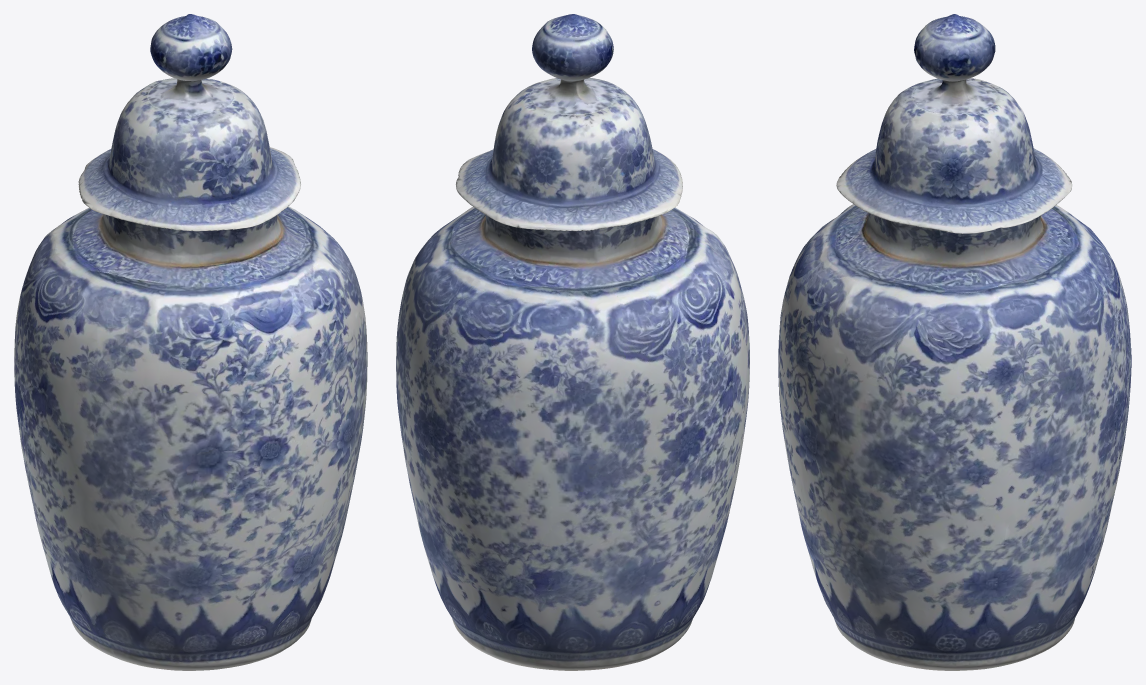
The picture shows the model from 3 angles, left to right: view 1: azimuth 30°, elevation 25°; view 2: azimuth 150°, elevation 25°; view 3: azimuth 270°, elevation 25°; orthographic projection.
Visible parts, largest first — view 1: Mesh_0; view 2: Mesh_0; view 3: Mesh_0.
Part boxes in pixels (left/top/right/bottom): Mesh_0: left=14, top=14, right=367, bottom=670; Mesh_0: left=396, top=14, right=749, bottom=670; Mesh_0: left=778, top=14, right=1131, bottom=670.
Size of the model in its own units: 1.05 by 1.99 by 1.04.
1 material, 1 textured.
